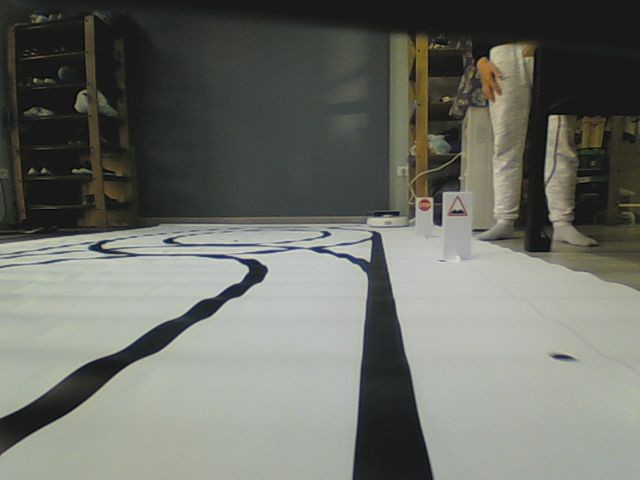Nerov: (447, 195, 469, 218)
